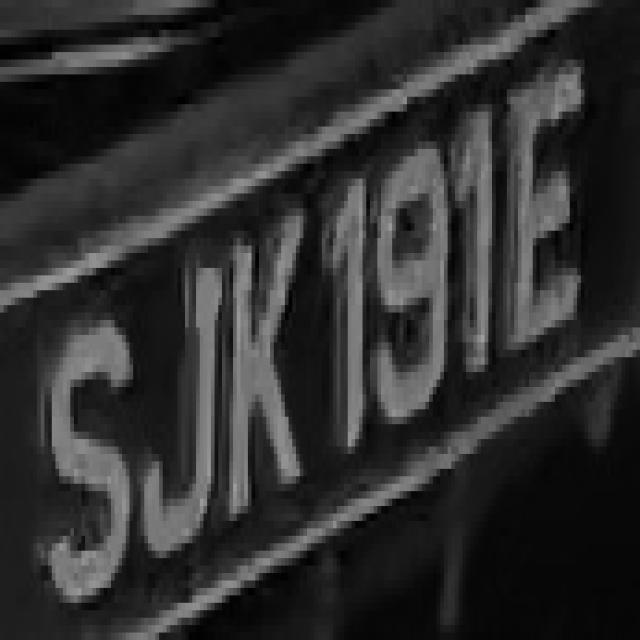1: (444, 97, 510, 409), (318, 164, 385, 469)
9: (370, 134, 444, 469)
E: (503, 44, 611, 364)
J: (133, 283, 215, 573)
K: (222, 201, 322, 513)
S: (37, 335, 144, 618)
